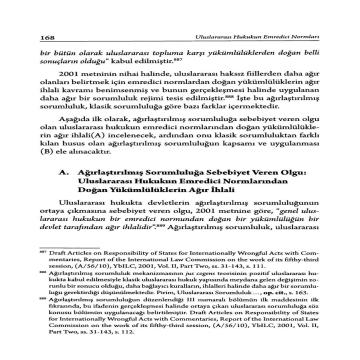footer: (46, 250, 325, 338)
header: (190, 32, 321, 42)
